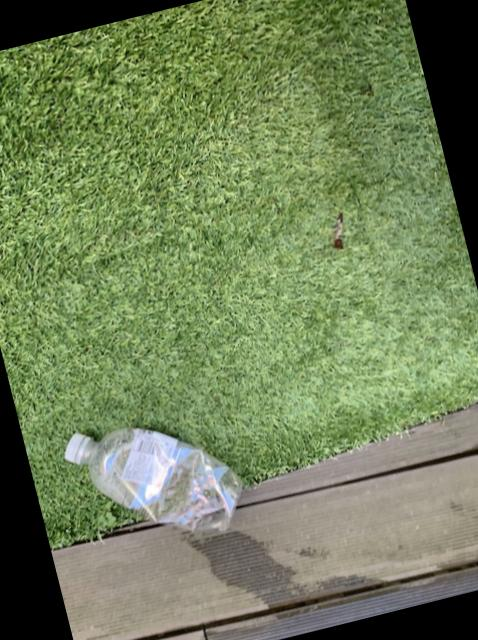plastic: (65, 429, 242, 531)
